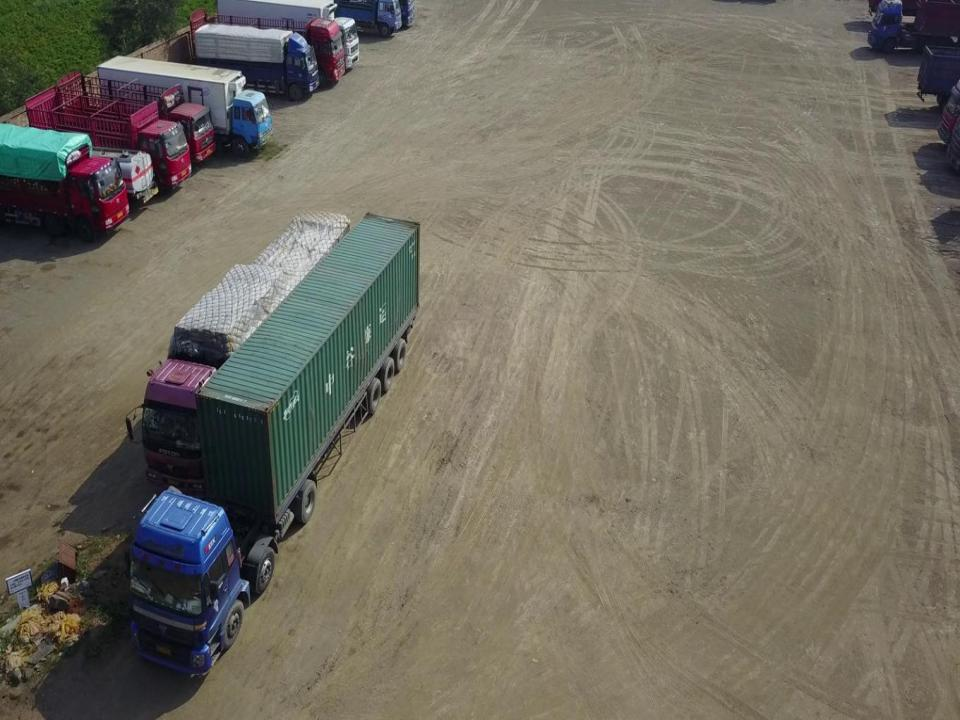truck: (129, 215, 424, 669), (140, 204, 351, 493), (112, 59, 273, 147), (0, 130, 132, 226), (54, 110, 188, 189), (91, 86, 213, 166), (217, 0, 359, 68), (195, 29, 315, 97), (225, 19, 343, 84), (59, 135, 156, 208), (866, 1, 960, 48), (321, 0, 402, 33)
